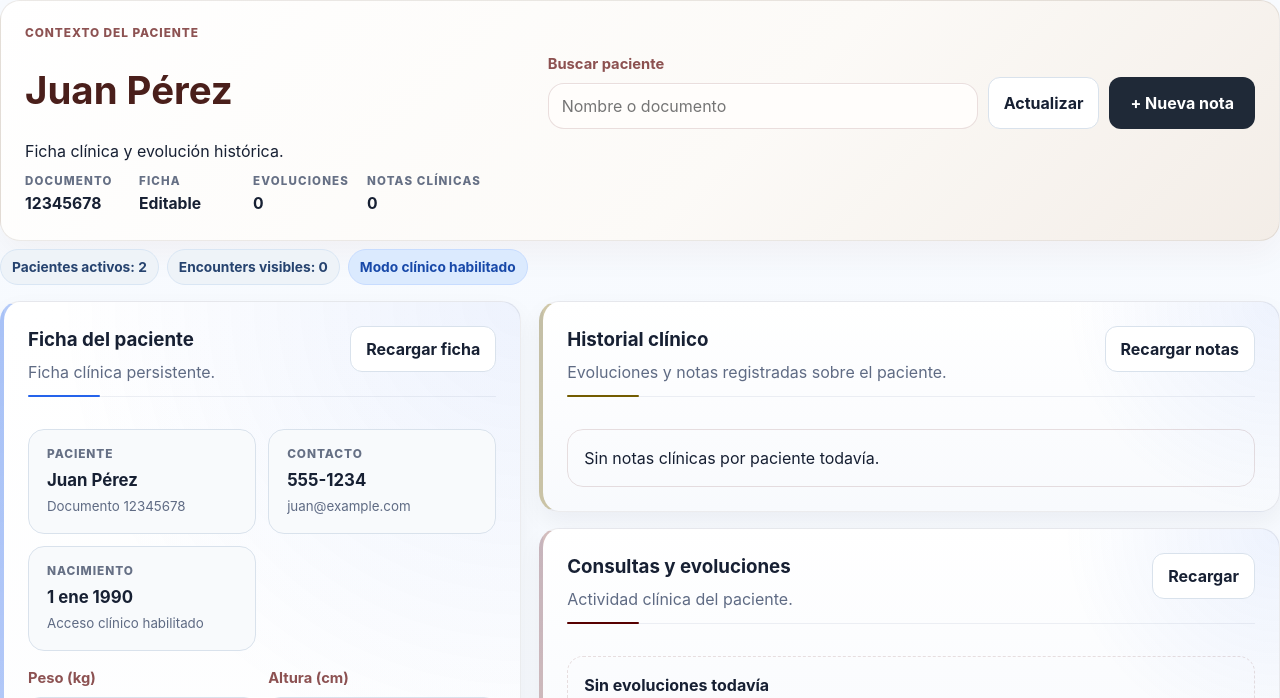
it: PatientsWorkspace › keeps the search dropdown anchored inside the contextual header action area
Focus the search field labelled "Buscar paciente" at [763, 106], box [548, 83, 978, 129]
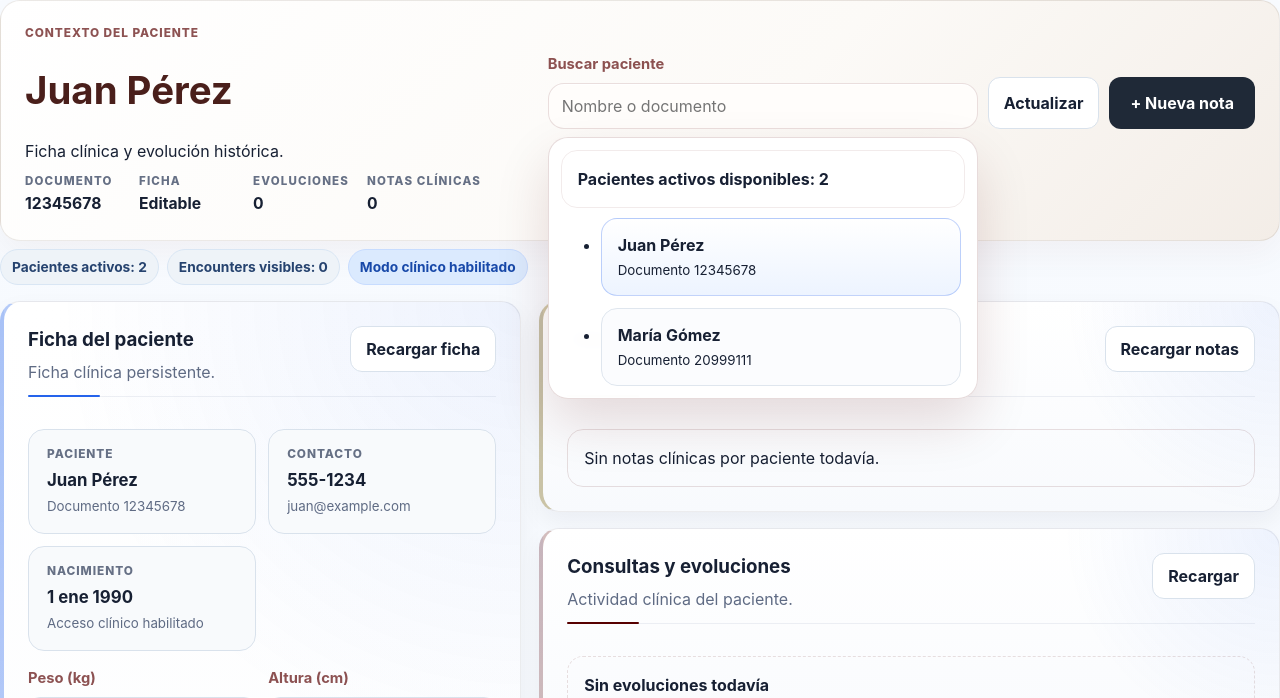
Now the list named "resultados de búsqueda de pacientes" is shown, box [561, 218, 965, 386]
Now the option "Juan Pérez Documento 12345678" is shown, box [601, 218, 961, 296]
Now the option "María Gómez Documento 20999111" is shown, box [601, 308, 961, 386]
